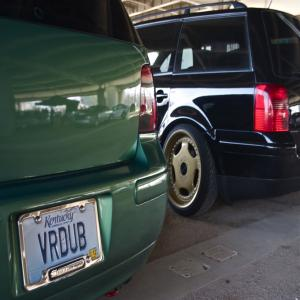Vehicle-registration-plate: (27, 205, 105, 286)
